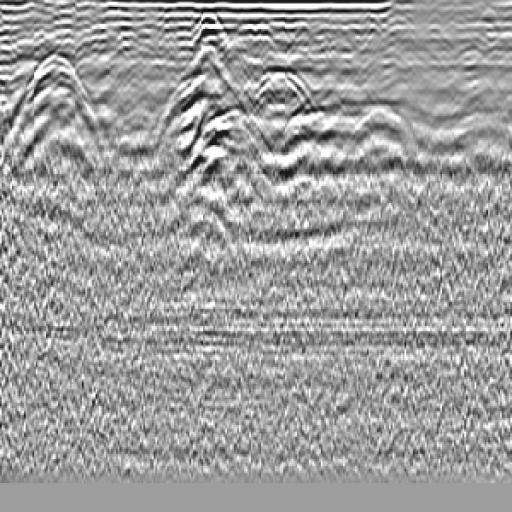metalic: (167, 10, 279, 249)
nonmetalic: (9, 32, 114, 188), (251, 57, 333, 157)
